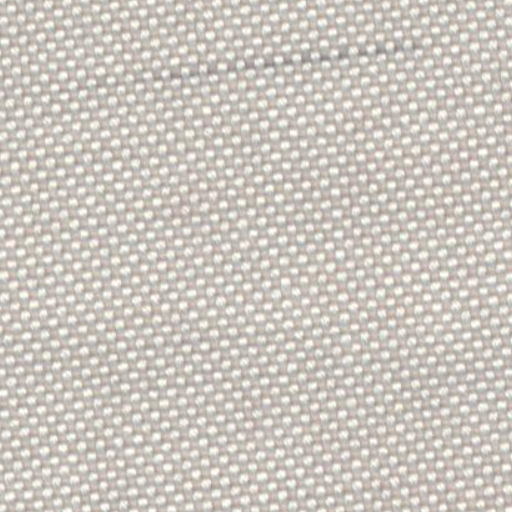WuZi: (105, 34, 425, 76)
